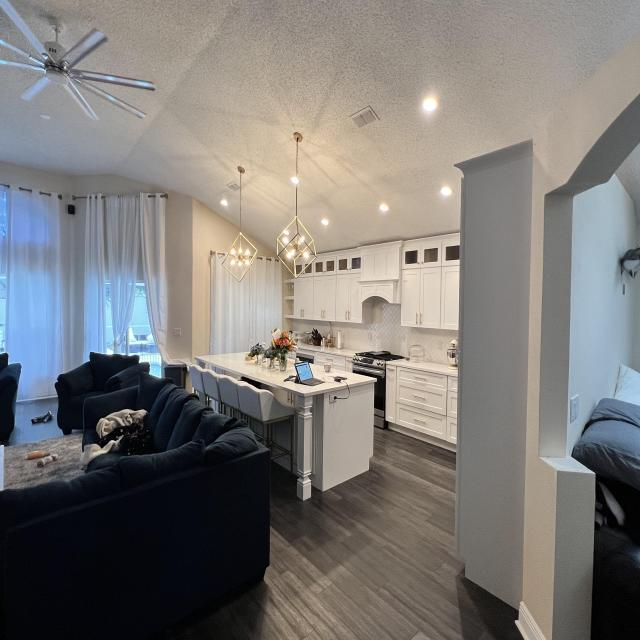Appliance_Oven: (352, 351, 405, 429)
Cabinet_Glass: (401, 237, 460, 269), (295, 254, 362, 276)
Cabinet_Shaker: (385, 366, 459, 446), (401, 266, 460, 329), (292, 274, 361, 324), (300, 351, 353, 370)
Countertop_Solid_Surface: (199, 352, 377, 394), (388, 360, 459, 376), (299, 343, 357, 357)
